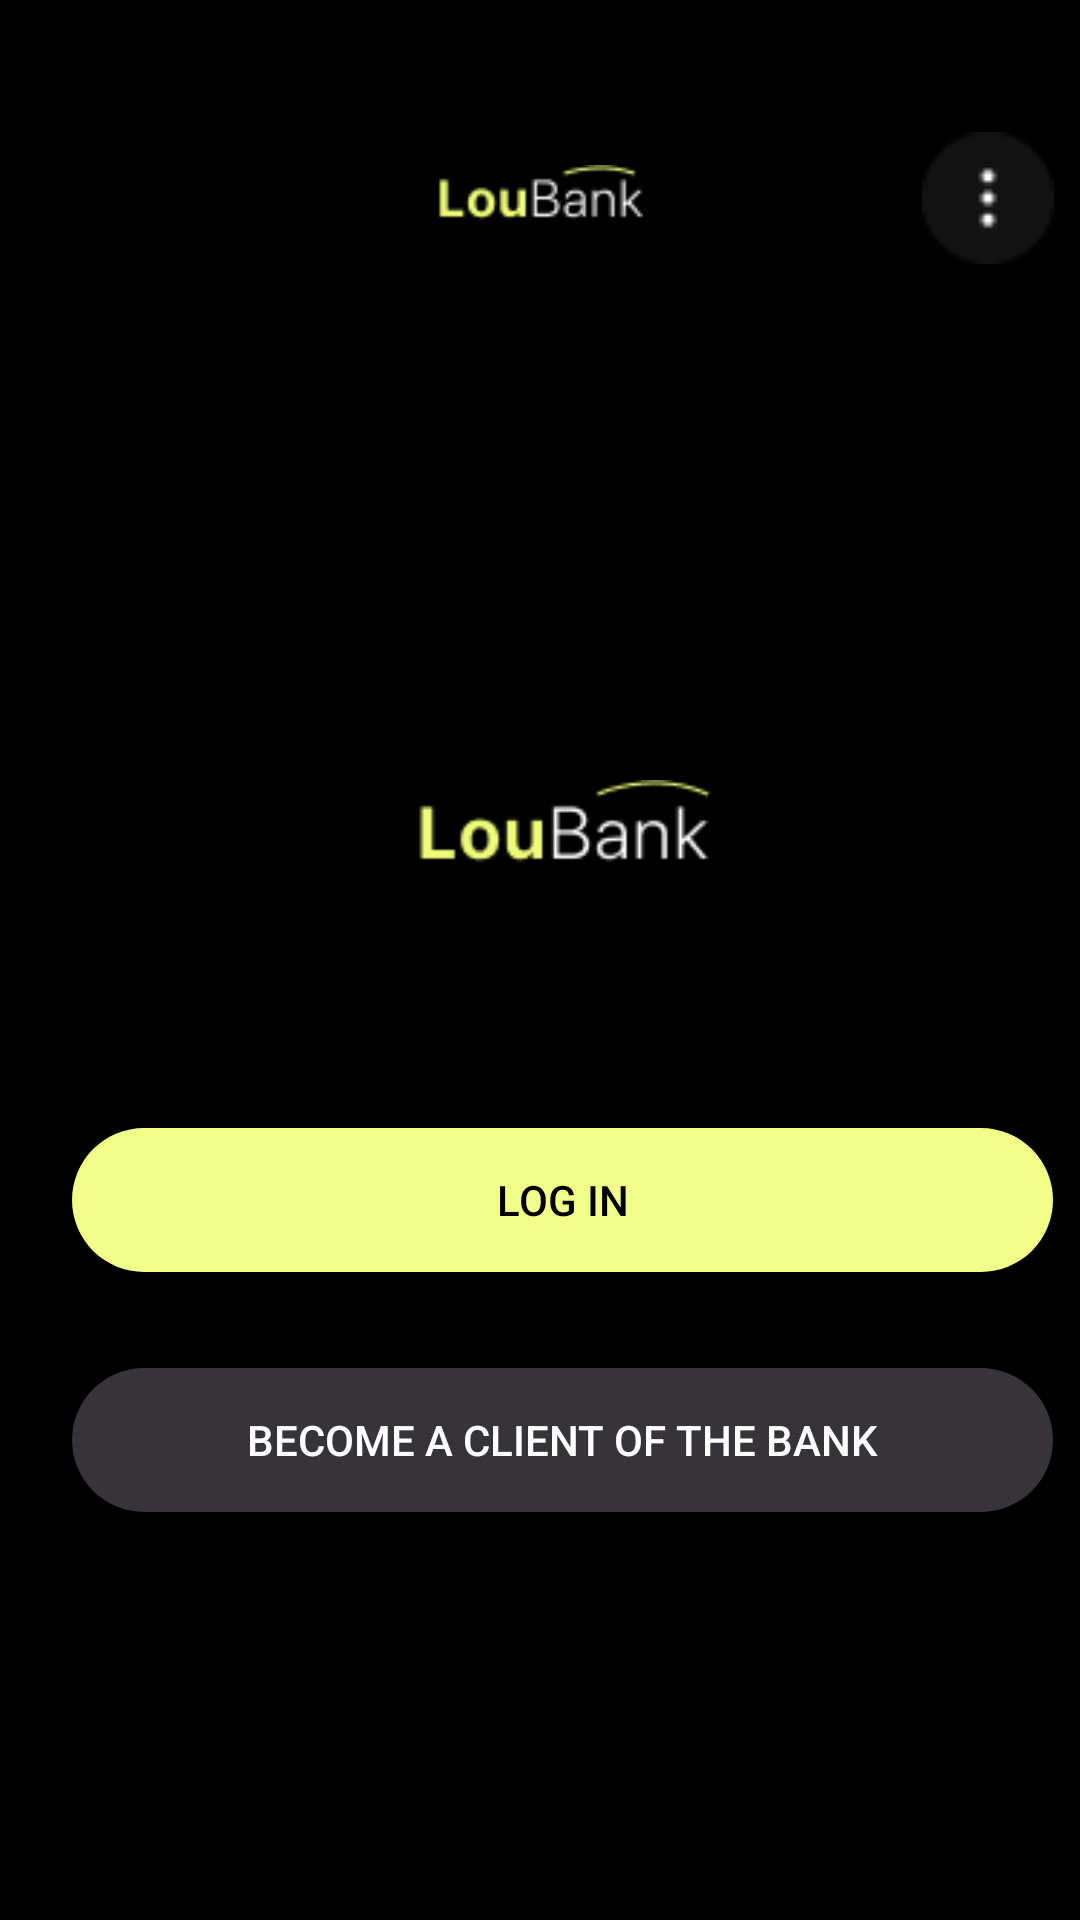

Point at icon controls on the screen. Image size 1080 x 1920, points as (x,y).
more: (988,198)
